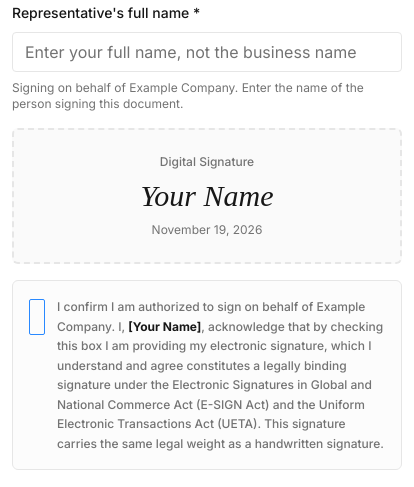
Test case: representative signatures › requires fresh consent after editing the representative name
The image size is (414, 487).
Later steps or results of the test are not shown.
Type "Alex Rose" into the field. click: point(207, 52)
box: [12,32,402,72]
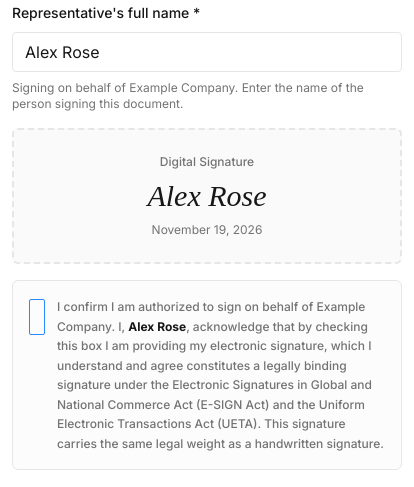
Click the checkbox. click: point(37, 317)
box: [29,299,45,335]
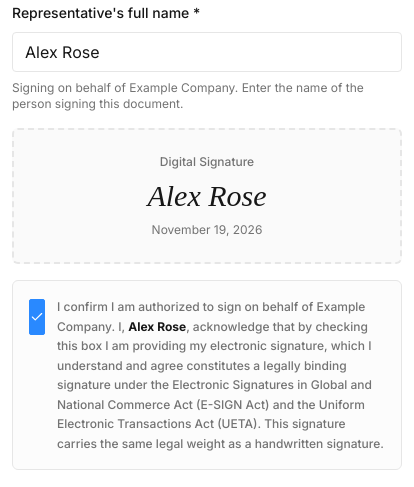
Replace the text in the field with "Sam Rose". click: point(207, 52)
box: [12,32,402,72]
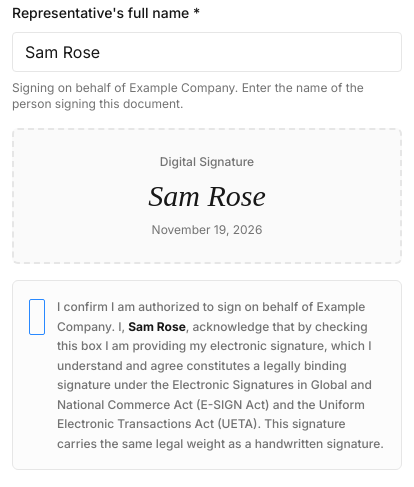
Now the checkbox is not checked, box [29,299,45,335]
